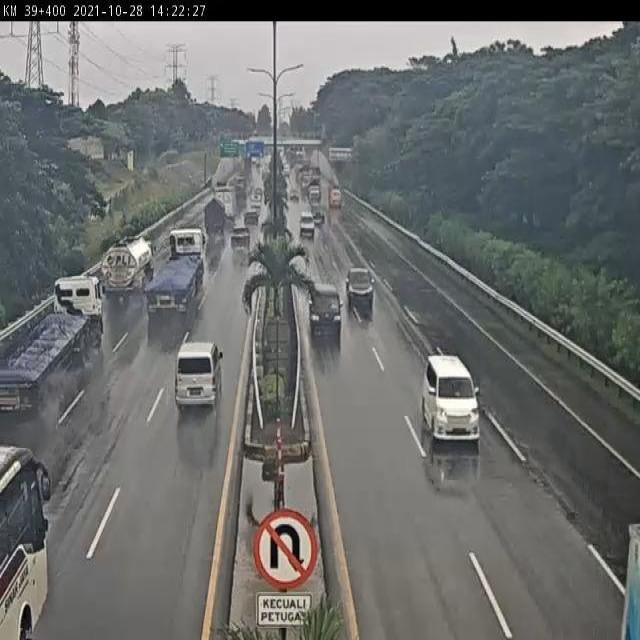big bus: (0, 434, 50, 640)
car: (420, 354, 483, 446), (172, 342, 226, 418), (310, 282, 345, 334), (344, 260, 377, 307)
truck-l-: (95, 239, 153, 304)
truck-s-: (202, 197, 226, 239)
truck-xl-: (0, 274, 105, 426), (138, 229, 207, 332)
